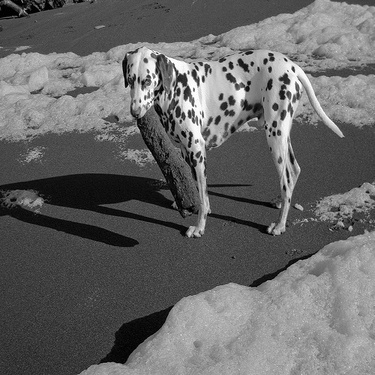dog: (102, 43, 356, 246)
